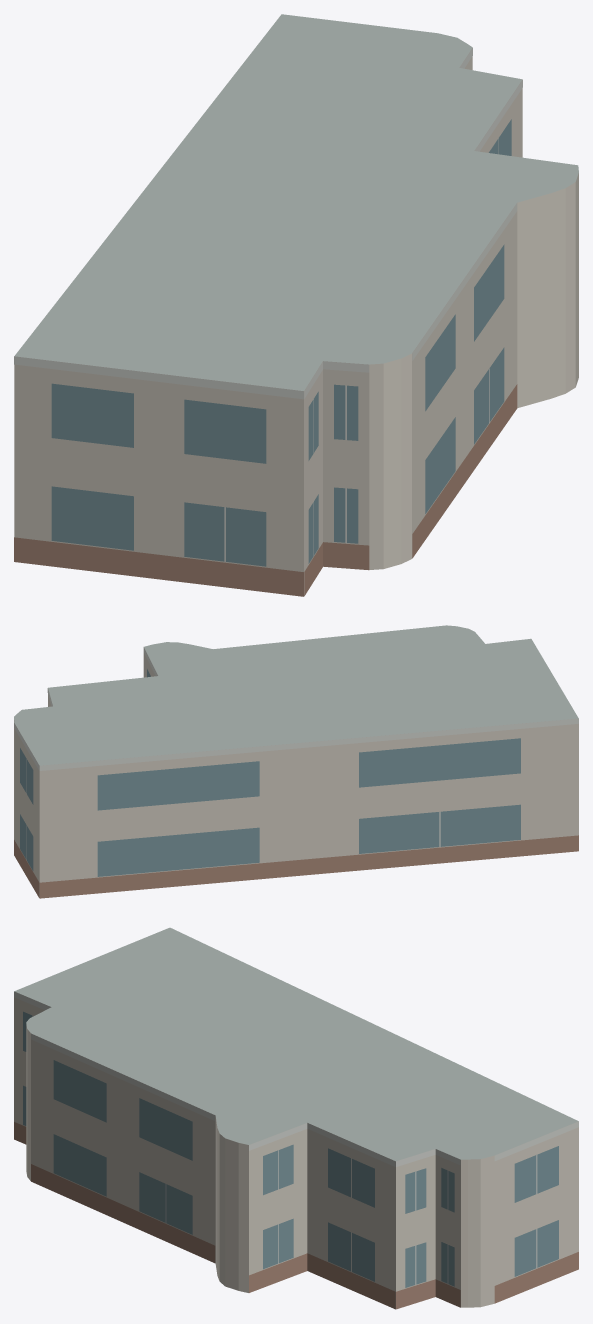
The model's file is survey-upis-32839790.glb.
3 views of the same model, one above another, from view 1: azimuth 30°, elevation 25°; view 2: azimuth 150°, elevation 25°; view 3: azimuth 270°, elevation 25° (orthographic). The views are drawn at different scales.
Parts seen in each view (by area): view 1: survey-upis-32839790.tmp; view 2: survey-upis-32839790.tmp; view 3: survey-upis-32839790.tmp.
Boxes of the visible parts, x1,y1,x2,y2 form: survey-upis-32839790.tmp: (14, 14, 578, 596); survey-upis-32839790.tmp: (14, 625, 578, 898); survey-upis-32839790.tmp: (14, 927, 578, 1309).
Size of the model in its own units: 20.67 by 6.1 by 21.09.
